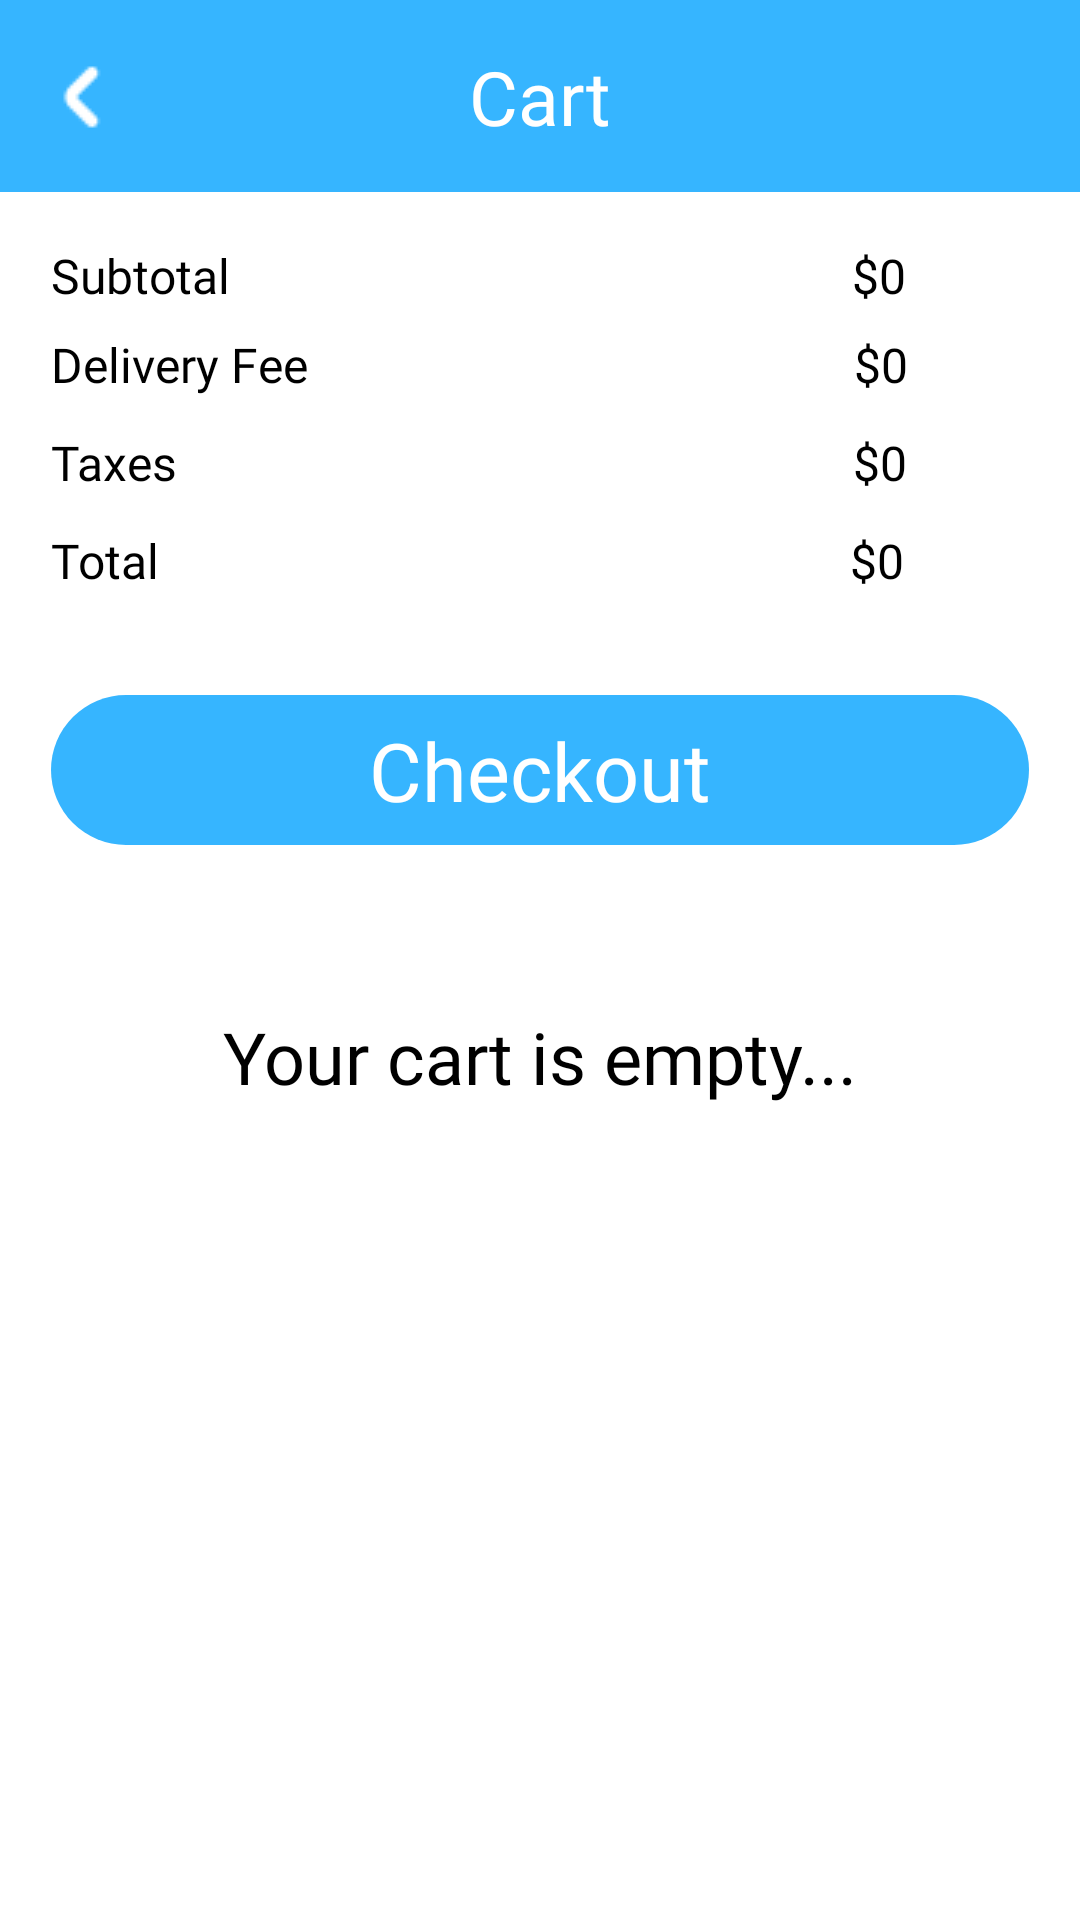

Icons on this 1080x1920 Android screen, each with its box as {"left": x1, "top": y1, "right": x2, "bottom": y2}:
back arrow: {"left": 63, "top": 66, "right": 100, "bottom": 128}
